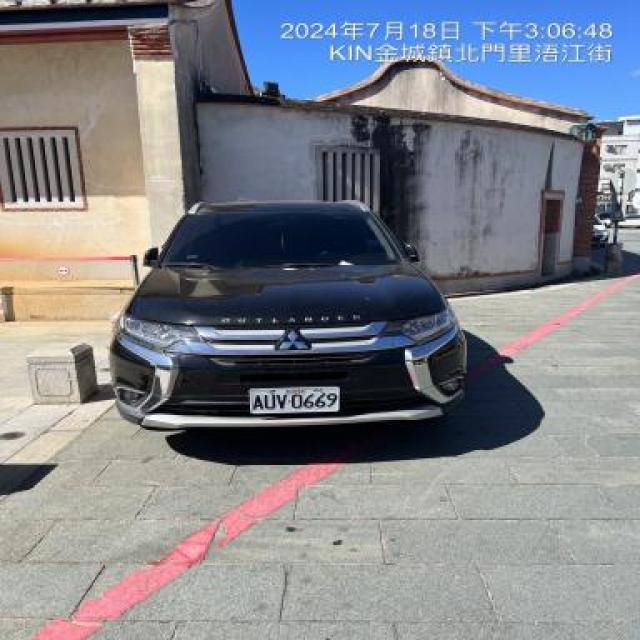illegalparking: (89, 139, 498, 494)
